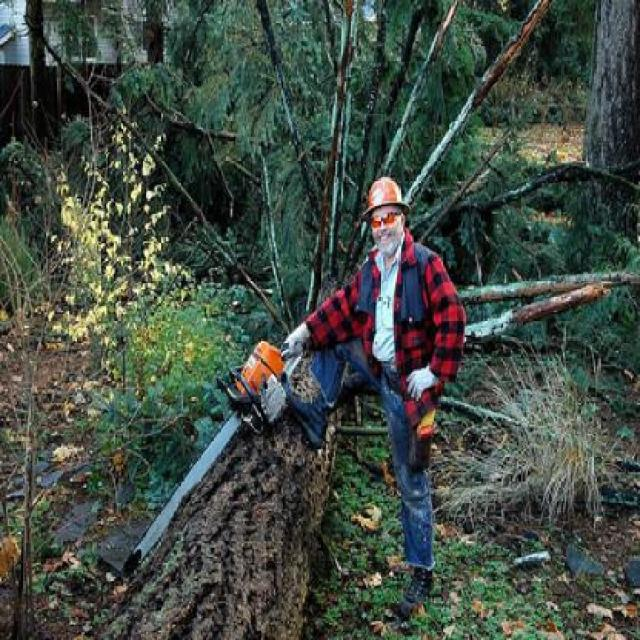Chainsaw: (120, 336, 300, 572)
